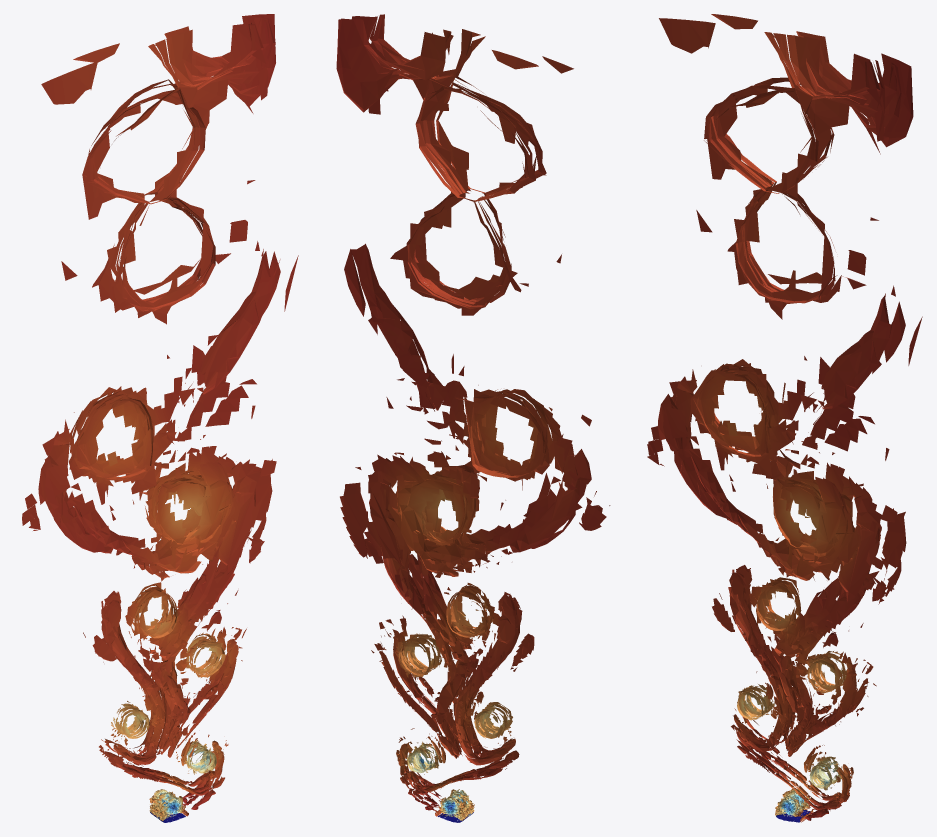
The model's file is flowfield_0_001_ViscosityEddy.glb.
3 renders of one model, left to right at view 1: azimuth 30°, elevation 25°; view 2: azimuth 150°, elevation 25°; view 3: azimuth 330°, elevation 25°, orthographic.
Visible parts, largest first — view 1: Renderer Node; view 2: Renderer Node; view 3: Renderer Node.
Boxes of the visible parts, box(x1,y1,x2,y2) form: Renderer Node: box(22, 14, 298, 822); Renderer Node: box(336, 14, 610, 822); Renderer Node: box(647, 14, 922, 822).
Bounding box in the file's own units: 12.61 × 33.13 × 1.04.
Materials: 1 (1 with a texture image).
